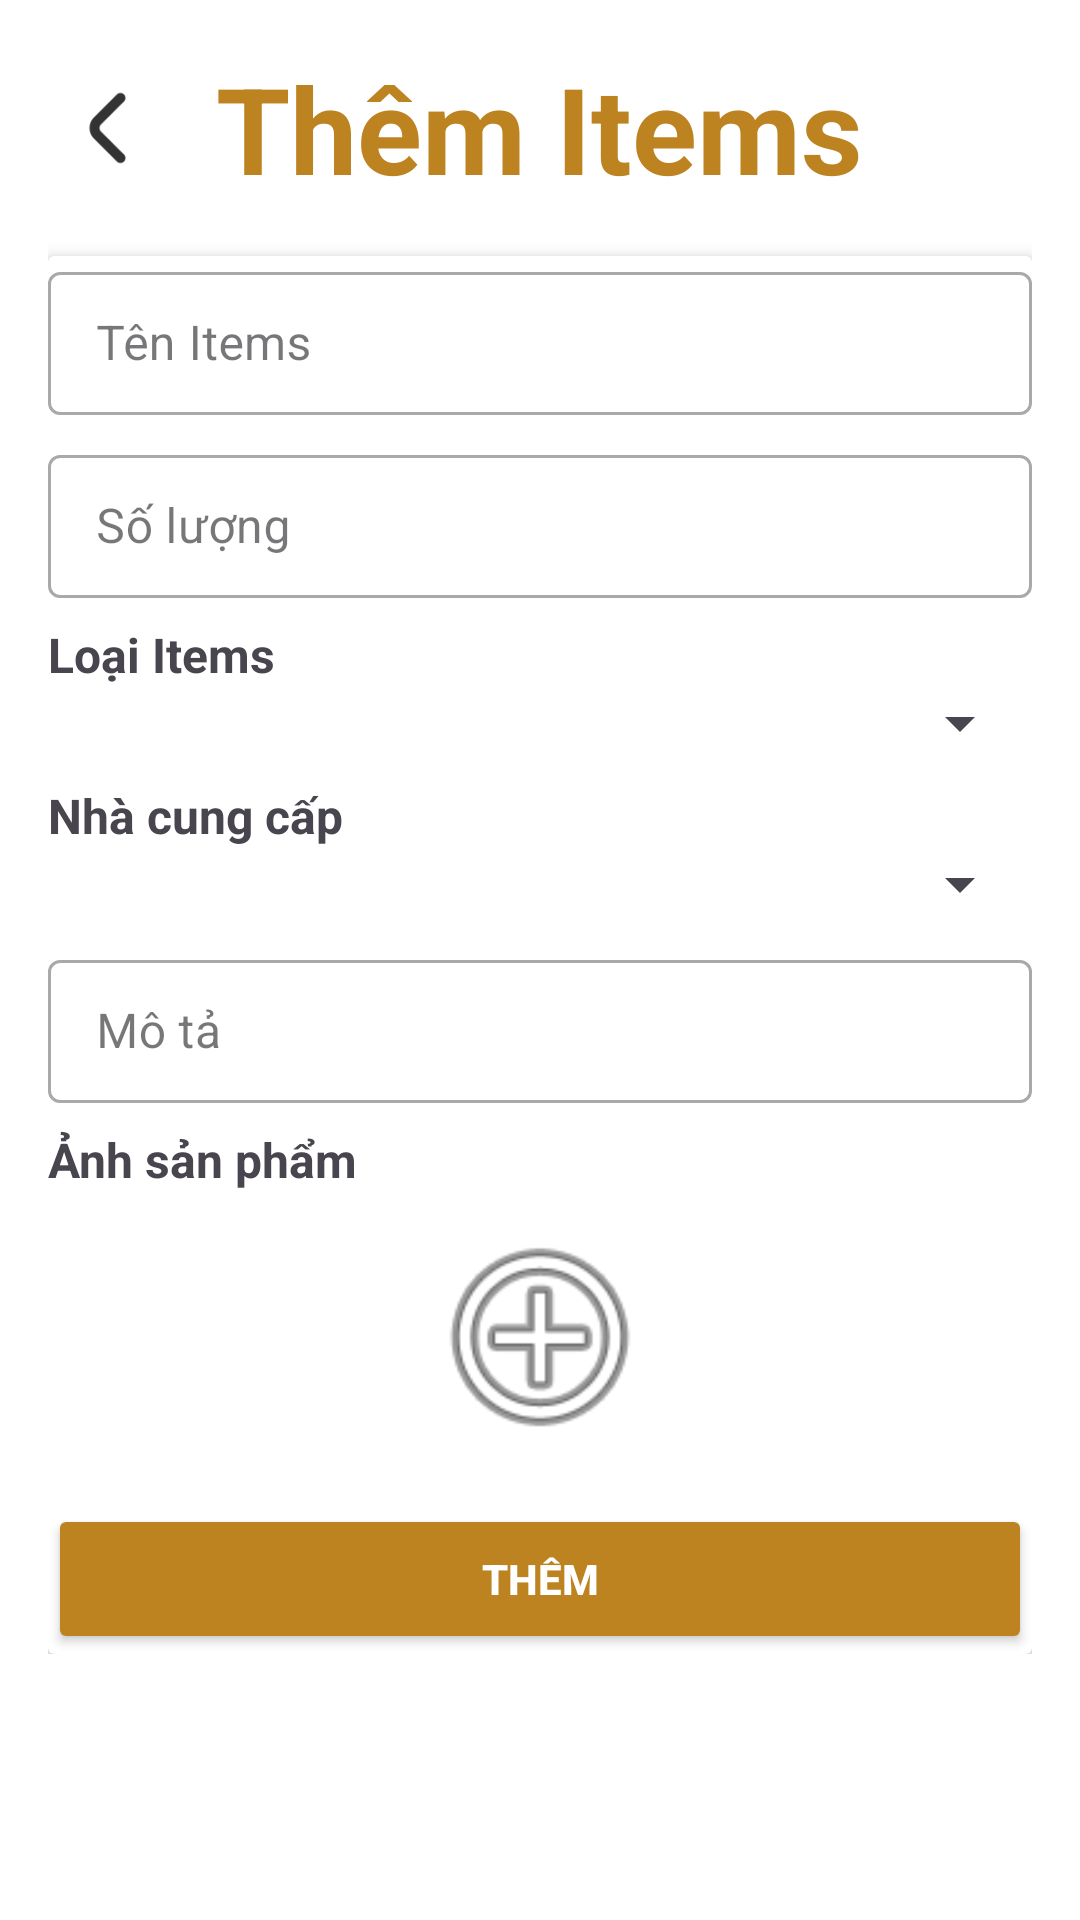

Screen size 1080*1920. Icon name, then its box in pixels as (x1, y1, x2, y2):
add: (451, 1248, 629, 1427)
angle left: (89, 92, 126, 164)
